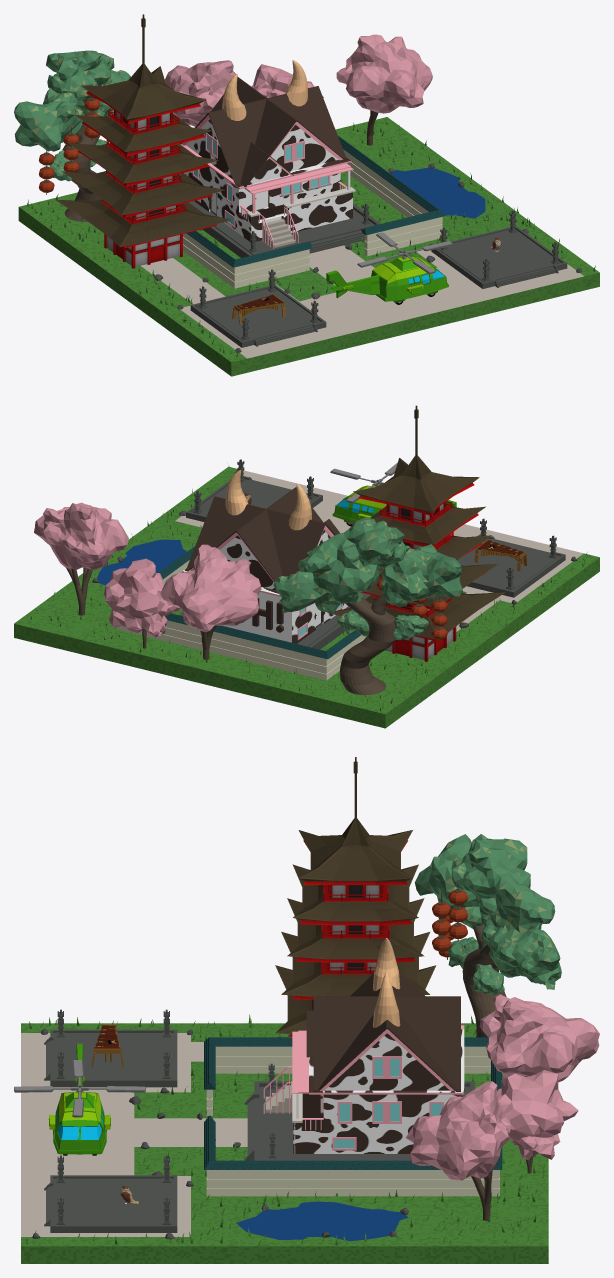
The picture shows the model from 3 angles, top to bottom: view 1: azimuth 30°, elevation 25°; view 2: azimuth 150°, elevation 25°; view 3: azimuth 270°, elevation 25°; orthographic projection. The views are drawn at different scales.
Visible parts, largest first — view 1: Cube.005, Cube.1242, VEHICLES_HELICOPTER, OBJRANDOM_MARIMBA; view 2: Cube.005, Cube.1242, VEHICLES_HELICOPTER, OBJRANDOM_MARIMBA; view 3: Cube.005, Cube.1242, VEHICLES_HELICOPTER, OBJRANDOM_MARIMBA.
Boxes of the visible parts, x1,y1,x2,y2 form: Cube.005: (14,14,599,376); Cube.1242: (179,60,355,248); VEHICLES_HELICOPTER: (326,232,452,304); OBJRANDOM_MARIMBA: (232,293,285,324); Cube.005: (14,405,599,728); Cube.1242: (182,470,347,643); VEHICLES_HELICOPTER: (330,463,456,526); OBJRANDOM_MARIMBA: (474,539,527,571); Cube.005: (21,757,599,1263); Cube.1242: (263,938,464,1153); VEHICLES_HELICOPTER: (14,1043,145,1155); OBJRANDOM_MARIMBA: (91,1024,123,1067).
Size of the model in its own units: 4528 by 2693 by 4442.
45 materials, 5 textured.
